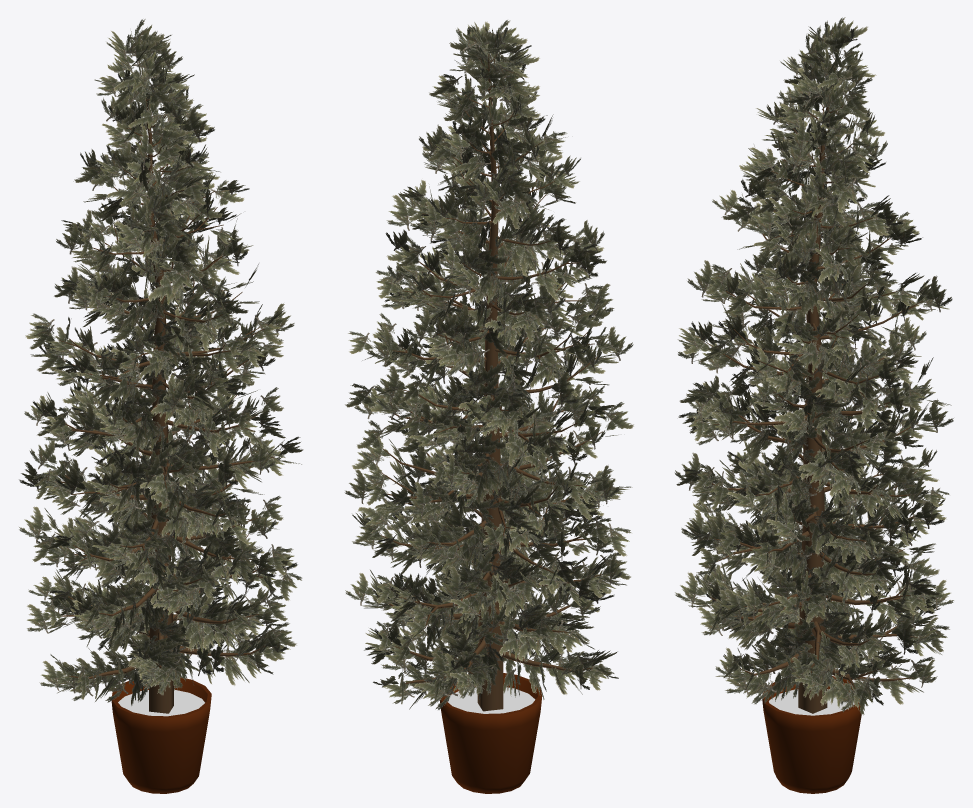
File: Plant.fbx
3 views of the same model, side by side, from view 1: azimuth 30°, elevation 25°; view 2: azimuth 150°, elevation 25°; view 3: azimuth 270°, elevation 25° (orthographic). The views are drawn at different scales.
Visible parts, largest first — view 1: leaves, Cylinder, tree; view 2: leaves, tree, Cylinder; view 3: leaves, tree, Cylinder.
Part boxes in pixels (x1,y1,x2,y2): leaves: (19,19,303,705); Cylinder: (111,677,211,793); tree: (54,60,275,713); leaves: (344,20,633,709); tree: (377,53,602,711); Cylinder: (439,673,542,793); leaves: (674,17,953,715); tree: (707,52,923,713); Cylinder: (762,676,861,793).
Size of the model in its own units: 130 by 373 by 130.
